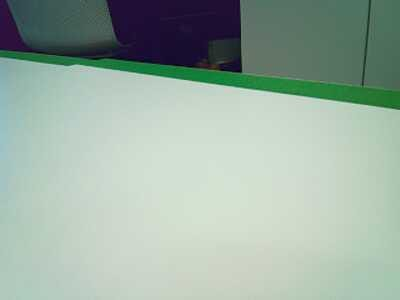linea_cerca: (0, 48, 400, 109)
